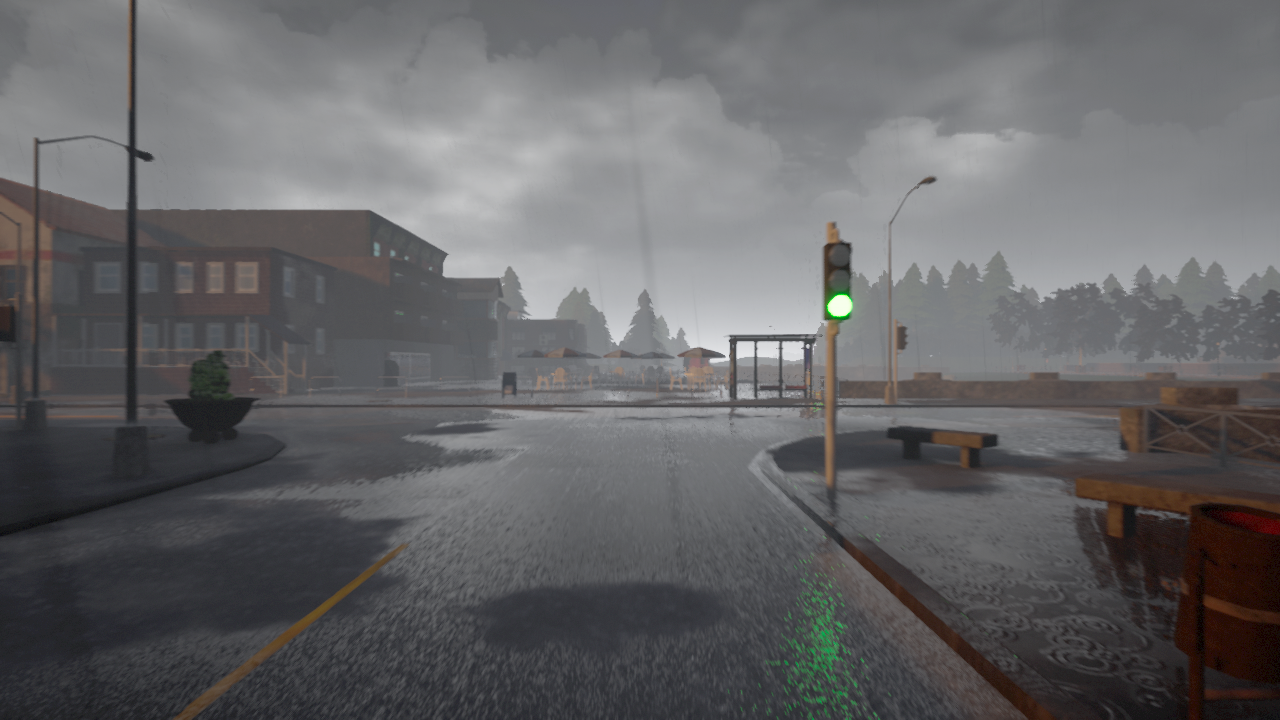green: (819, 240, 853, 321)
